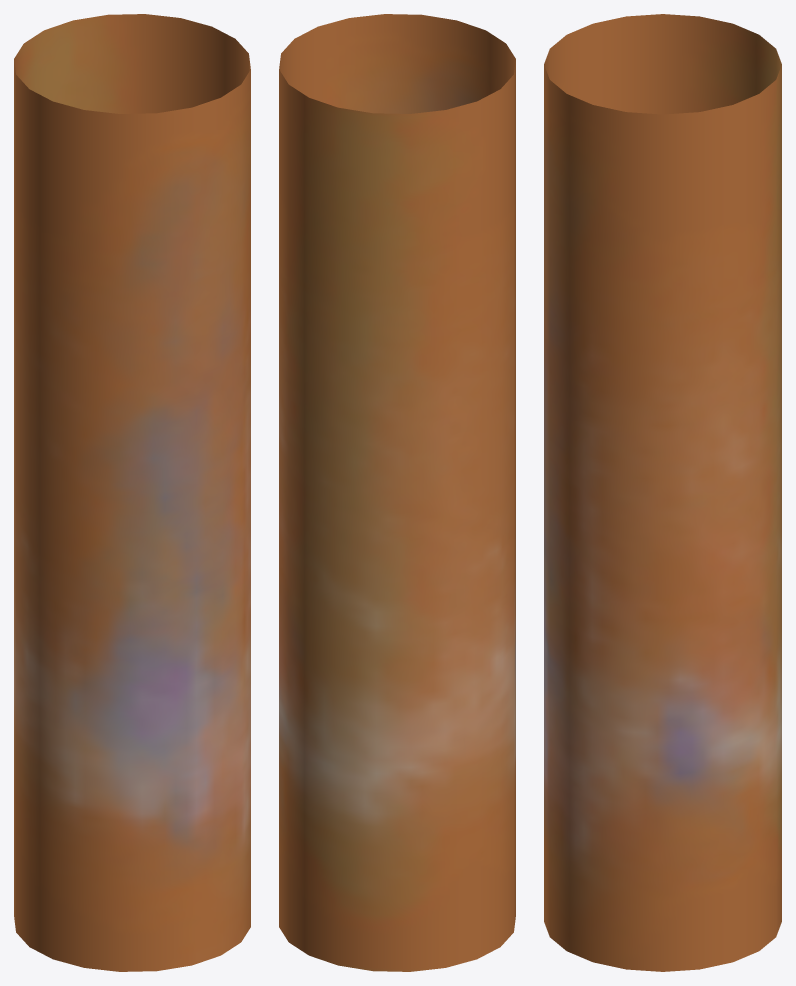
File: Ani_Dd_Att_07_09.FBX
3 renders of one model, left to right at view 1: azimuth 30°, elevation 25°; view 2: azimuth 150°, elevation 25°; view 3: azimuth 270°, elevation 25°, orthographic.
Parts seen in each view (by area): view 1: Cone001; view 2: Cone001; view 3: Cone001.
Part boxes in pixels (box(x1,y1,x2,y2)): Cone001: box(14, 14, 250, 971); Cone001: box(279, 14, 515, 971); Cone001: box(544, 14, 781, 971).
Size of the model in its own units: 99.21 by 394 by 99.21.
